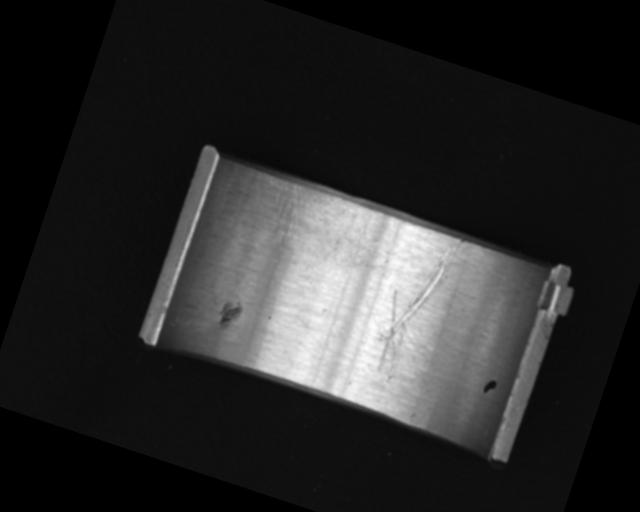blot: (480, 377, 499, 399)
bruise: (214, 297, 244, 331)
nick: (364, 224, 466, 391)
scratch: (240, 172, 376, 287)
